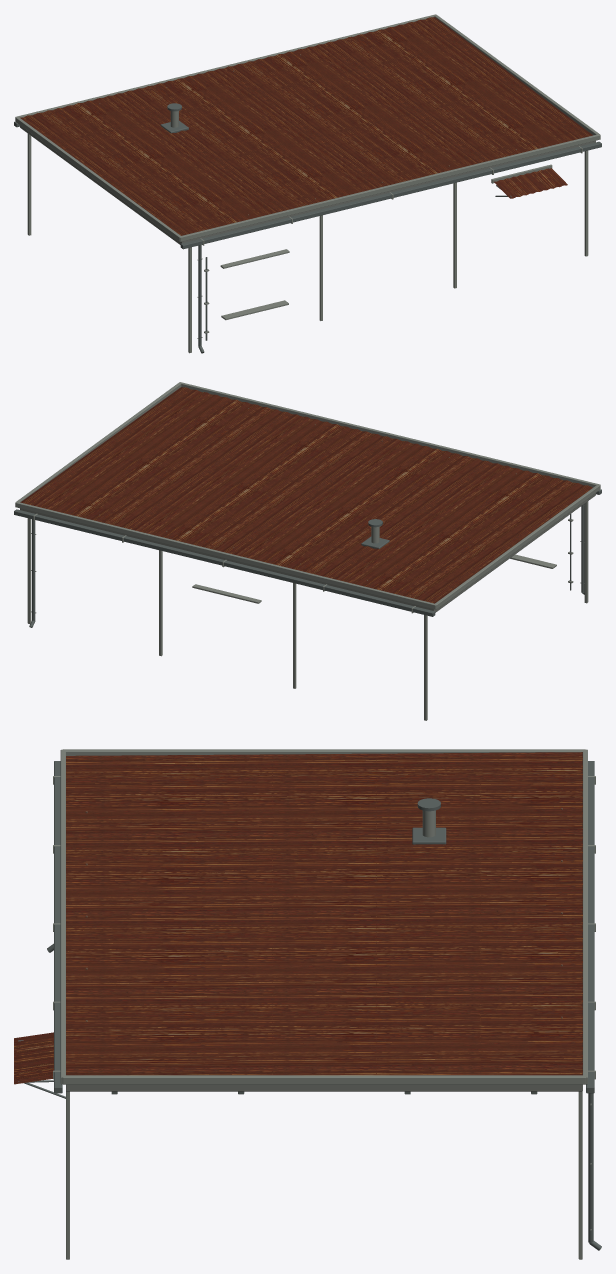
The model's file is architecture_pass.glb.
The picture shows the model from 3 angles, top to bottom: view 1: azimuth 30°, elevation 25°; view 2: azimuth 150°, elevation 25°; view 3: azimuth 270°, elevation 25°; orthographic projection. The views are drawn at different scales.
Parts seen in each view (by area): view 1: Architecture | Weathered corrugated steel | CC0 Poly Haven, Architecture | Faded galvanised edge, Architecture | Oxidised graphite steel, Architecture | Dusty underside and purlins; view 2: Architecture | Weathered corrugated steel | CC0 Poly Haven, Architecture | Faded galvanised edge, Architecture | Oxidised graphite steel, Architecture | Dusty underside and purlins; view 3: Architecture | Weathered corrugated steel | CC0 Poly Haven, Architecture | Faded galvanised edge, Architecture | Oxidised graphite steel, Architecture | Dusty underside and purlins.
Part boxes in pixels (x1=…): Architecture | Weathered corrugated steel | CC0 Poly Haven: x1=20, y1=17, x2=592, y2=235; Architecture | Faded galvanised edge: x1=15, y1=14, x2=600, y2=353; Architecture | Oxidised graphite steel: x1=14, y1=103, x2=601, y2=353; Architecture | Dusty underside and purlins: x1=20, y1=125, x2=595, y2=244; Architecture | Weathered corrugated steel | CC0 Poly Haven: x1=20, y1=387, x2=592, y2=603; Architecture | Faded galvanised edge: x1=15, y1=382, x2=600, y2=720; Architecture | Oxidised graphite steel: x1=14, y1=489, x2=601, y2=627; Architecture | Dusty underside and purlins: x1=20, y1=493, x2=595, y2=612; Architecture | Weathered corrugated steel | CC0 Poly Haven: x1=14, y1=752, x2=582, y2=1084; Architecture | Faded galvanised edge: x1=53, y1=749, x2=595, y2=1259; Architecture | Oxidised graphite steel: x1=18, y1=761, x2=601, y2=1250; Architecture | Dusty underside and purlins: x1=66, y1=1084, x2=582, y2=1091.
Size of the model in its own units: 12.59 by 3.98 by 9.53.
Materials: 5 (1 with a texture image).
